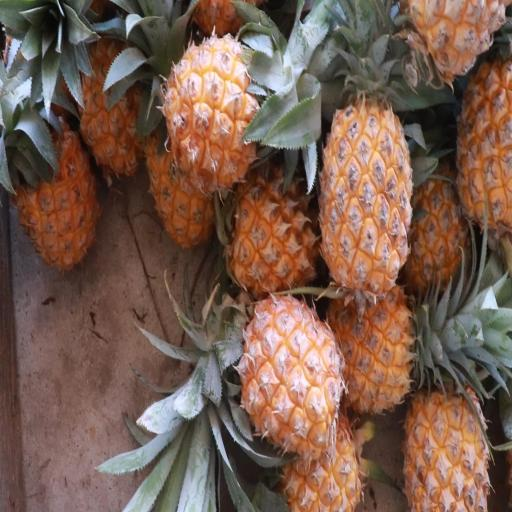Pineapple - v8 v1: (318, 94, 415, 304), (0, 90, 103, 276), (236, 290, 345, 464), (161, 28, 266, 198), (224, 161, 324, 292), (328, 276, 420, 418), (402, 372, 492, 512), (77, 33, 155, 179), (455, 53, 512, 240), (274, 415, 364, 511)
